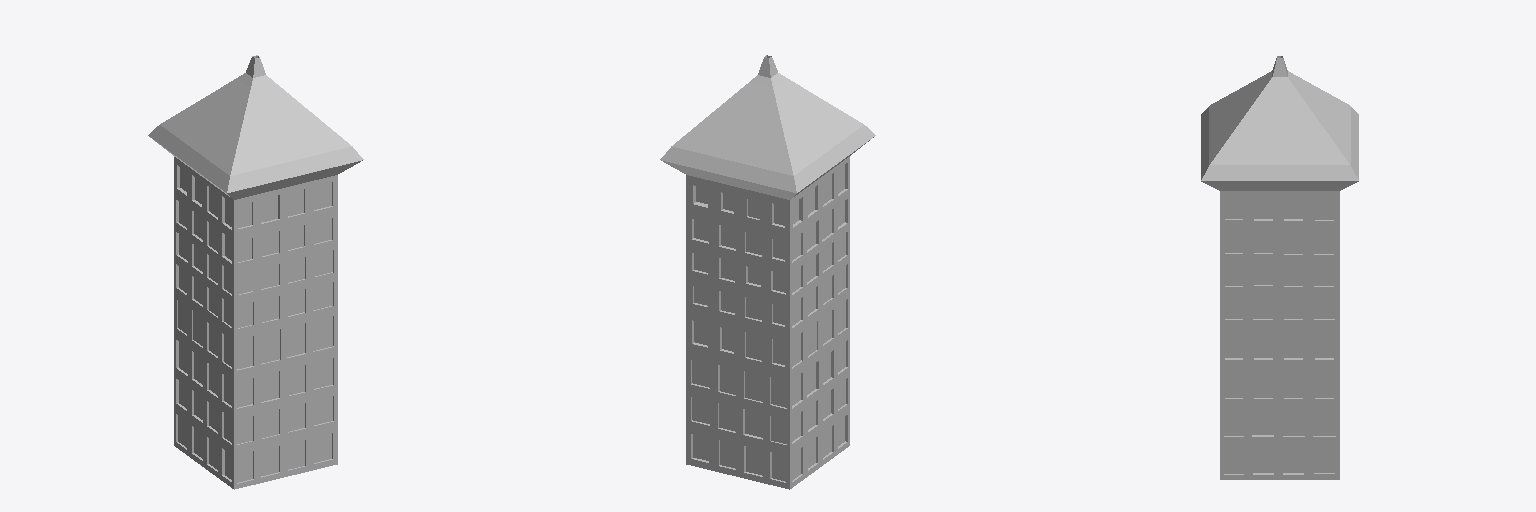
File: Building_High.obj
The picture shows the model from 3 angles: view 1: azimuth 30°, elevation 25°; view 2: azimuth 150°, elevation 25°; view 3: azimuth 270°, elevation 25°; orthographic projection.
Visible parts, largest first — view 1: pCube3; view 2: pCube3; view 3: pCube3.
Boxes of the visible parts, box(x1,y1,x2,y2) form: pCube3: box(148, 55, 363, 489); pCube3: box(660, 55, 875, 489); pCube3: box(1201, 56, 1358, 479).
Bounding box in the file's own units: 19.79 × 55.01 × 19.79.